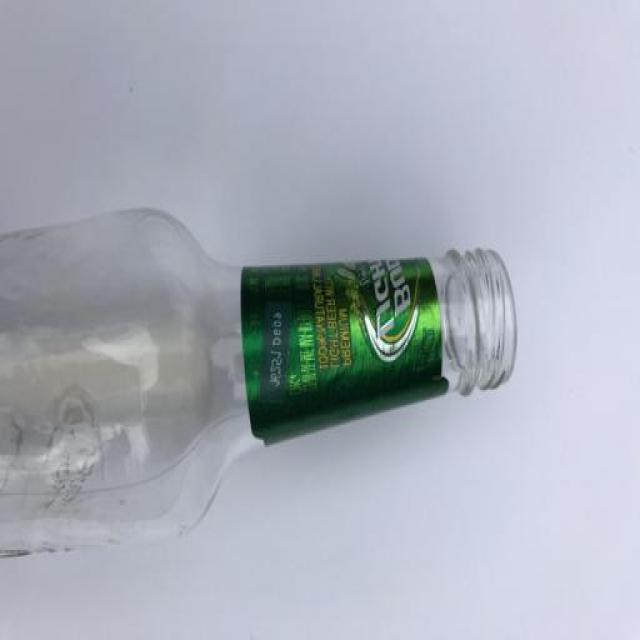glass: (0, 204, 519, 559)
